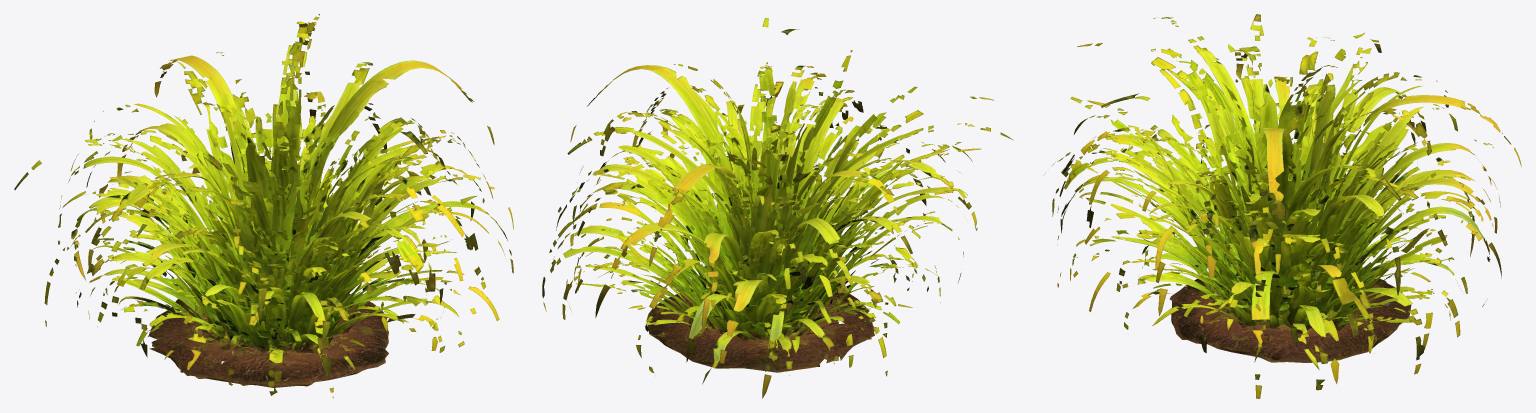
File: raw_meshy_model.glb
3 views of the same model, side by side, from view 1: azimuth 30°, elevation 25°; view 2: azimuth 150°, elevation 25°; view 3: azimuth 270°, elevation 25° (orthographic). The views are drawn at different scales.
Size of the model in its own units: 1.84 by 1.16 by 1.8.
Materials: 1 (1 with a texture image).
